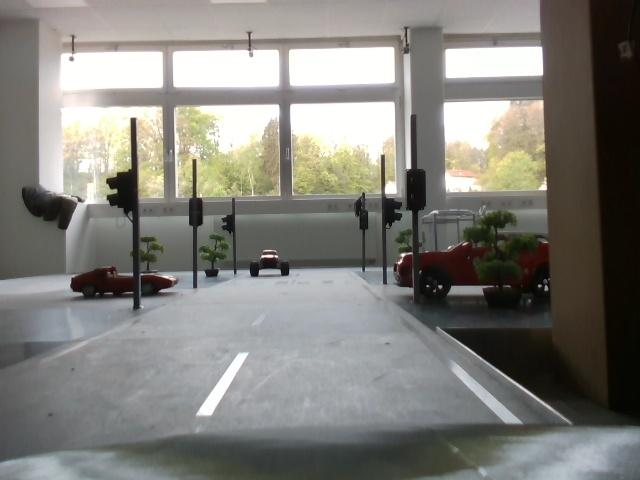car: (401, 239, 553, 305), (73, 260, 178, 310), (249, 239, 297, 284)
potted plant: (469, 203, 531, 310), (201, 226, 229, 284), (136, 232, 166, 272)
traffic light: (108, 165, 149, 222), (400, 166, 436, 216)
